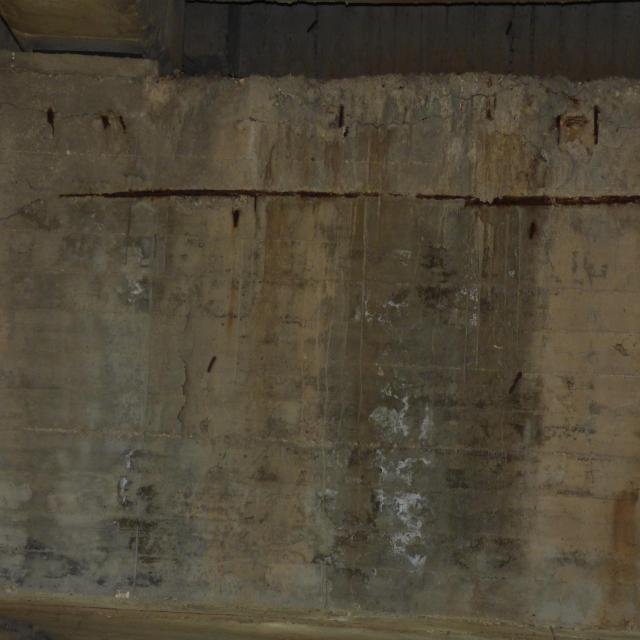Rebar: (57, 185, 640, 212), (483, 79, 499, 124), (592, 102, 599, 147), (46, 106, 55, 138), (555, 110, 561, 148), (336, 102, 344, 130), (99, 113, 111, 131), (306, 19, 318, 35), (118, 114, 126, 132)
diagonal crack: (0, 178, 62, 232)
horizontal crack: (236, 82, 640, 149), (0, 100, 128, 139)
vertical crack: (177, 292, 192, 352)
